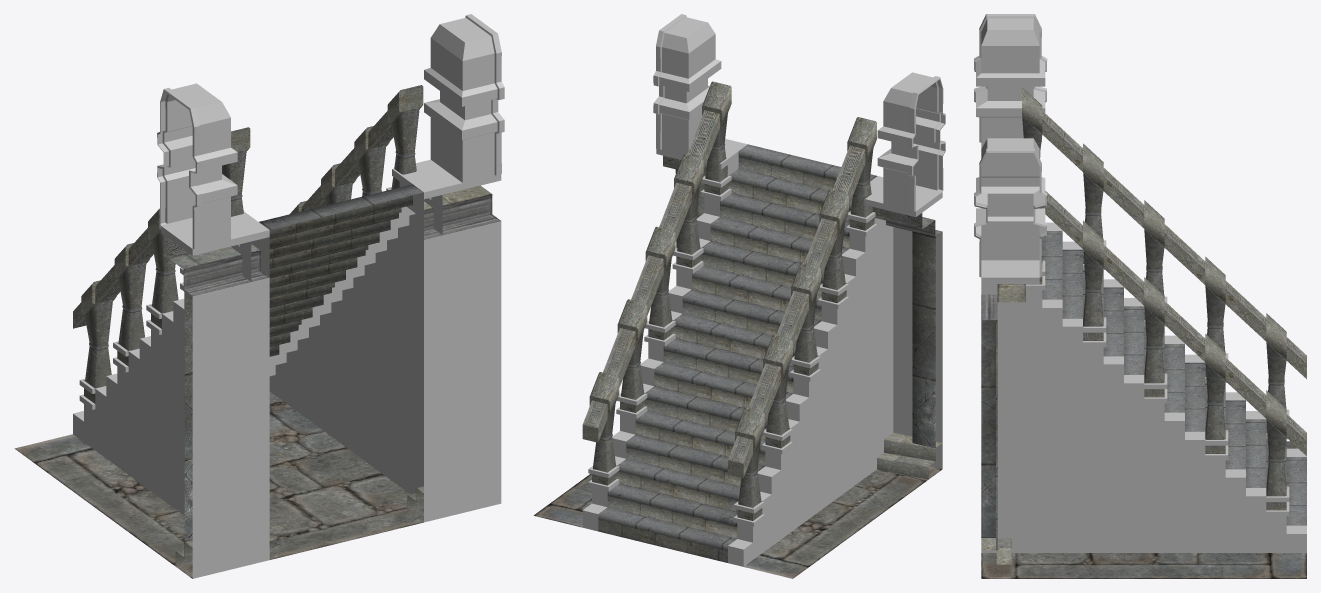
The model's file is UnderStairs.FBX.
3 renders of one model, left to right at view 1: azimuth 30°, elevation 25°; view 2: azimuth 150°, elevation 25°; view 3: azimuth 270°, elevation 25°, orthographic. The views are drawn at different scales.
Visible parts, largest first — view 1: Box08; view 2: Box08; view 3: Box08.
Boxes of the visible parts, x1,y1,x2,y2 form: Box08: (14, 14, 504, 578); Box08: (534, 14, 945, 578); Box08: (974, 14, 1306, 578).
Bounding box in the file's own units: 500 × 725 × 511.
